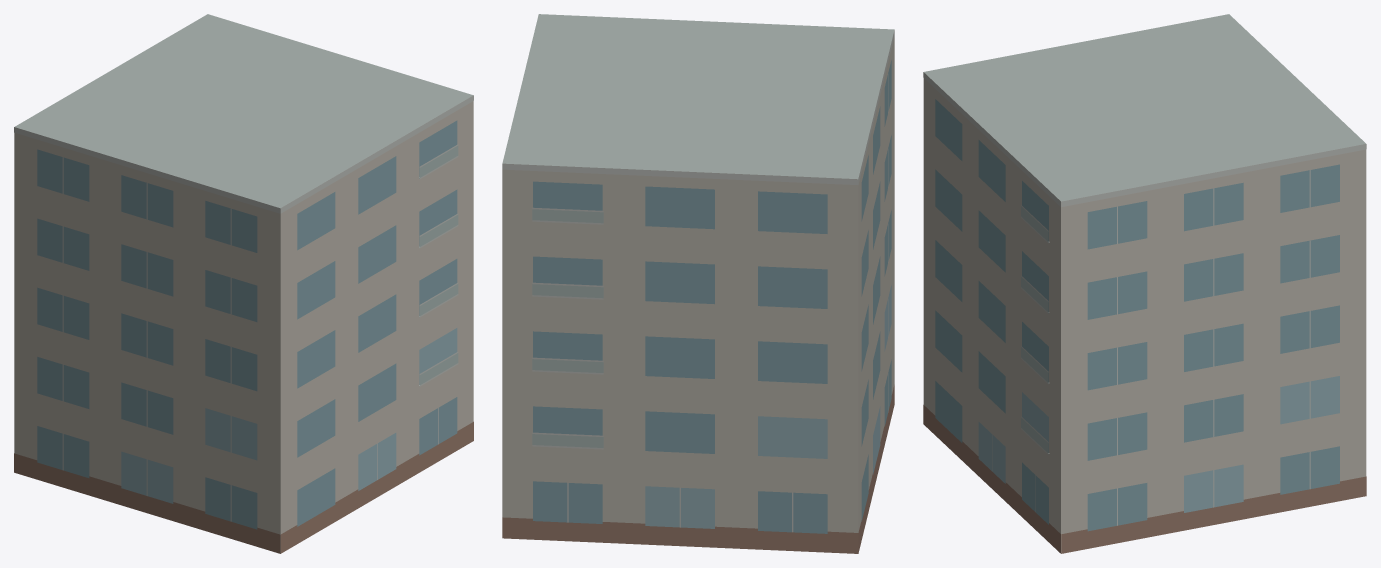
Rendered from residential-9fe5d593-c760-4663-b97b-c1781d45148e.glb.
3 views of the same model, side by side, from view 1: azimuth 30°, elevation 25°; view 2: azimuth 150°, elevation 25°; view 3: azimuth 270°, elevation 25° (orthographic). The views are drawn at different scales.
Parts seen in each view (by area): view 1: residential-9fe5d593-c760-4663-b97b-c1781d45148e.tmp; view 2: residential-9fe5d593-c760-4663-b97b-c1781d45148e.tmp; view 3: residential-9fe5d593-c760-4663-b97b-c1781d45148e.tmp.
Part boxes in pixels (x1=…): residential-9fe5d593-c760-4663-b97b-c1781d45148e.tmp: x1=14, y1=14, x2=473, y2=553; residential-9fe5d593-c760-4663-b97b-c1781d45148e.tmp: x1=502, y1=14, x2=894, y2=553; residential-9fe5d593-c760-4663-b97b-c1781d45148e.tmp: x1=923, y1=14, x2=1366, y2=553.
Bounding box in the file's own units: 17.43 × 15.25 × 17.39.
